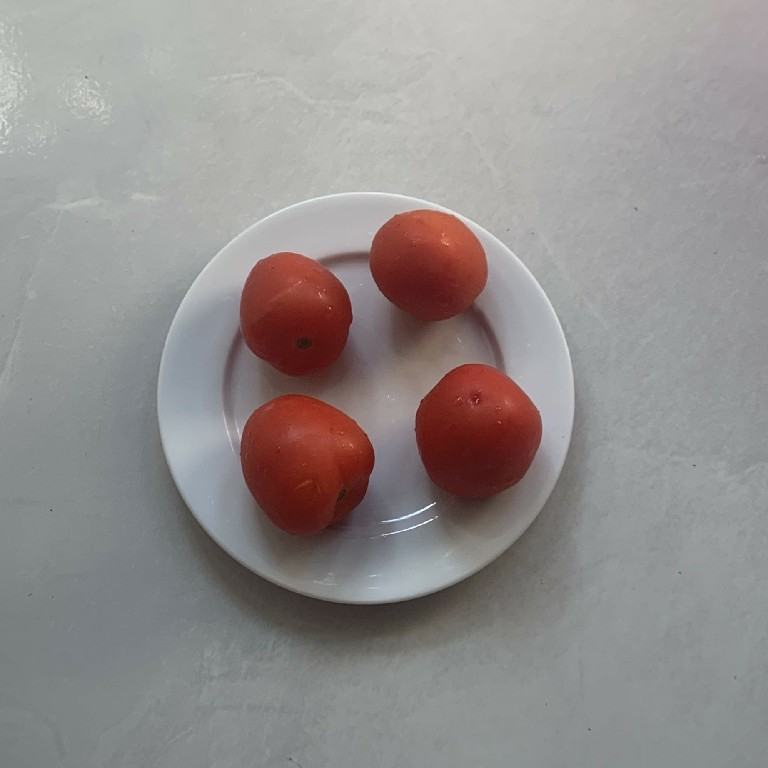OK: (234, 393, 376, 535), (412, 358, 545, 499), (237, 251, 352, 376), (364, 211, 490, 323)
